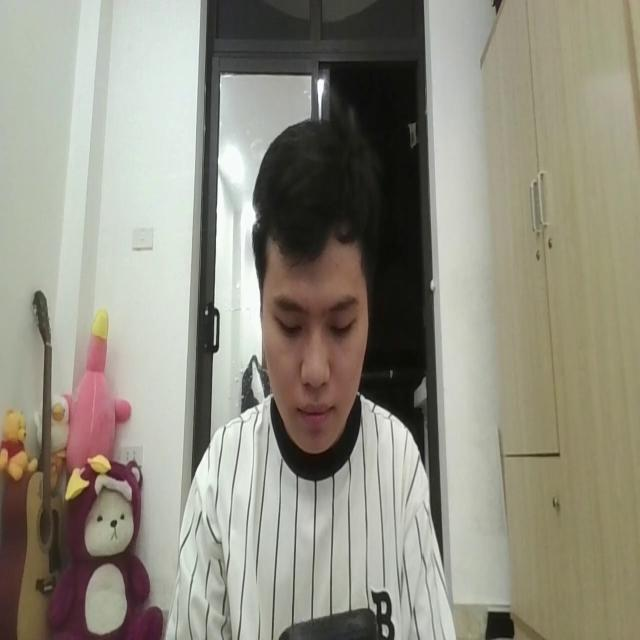phone: (281, 602, 381, 640)
student: (171, 104, 456, 640)
